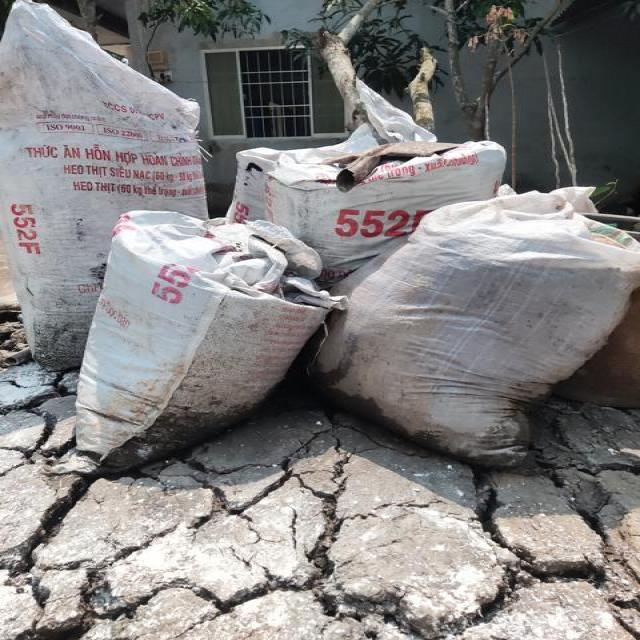gunny_bag: (312, 187, 640, 468), (53, 211, 345, 474), (1, 0, 207, 370), (227, 81, 507, 282)
